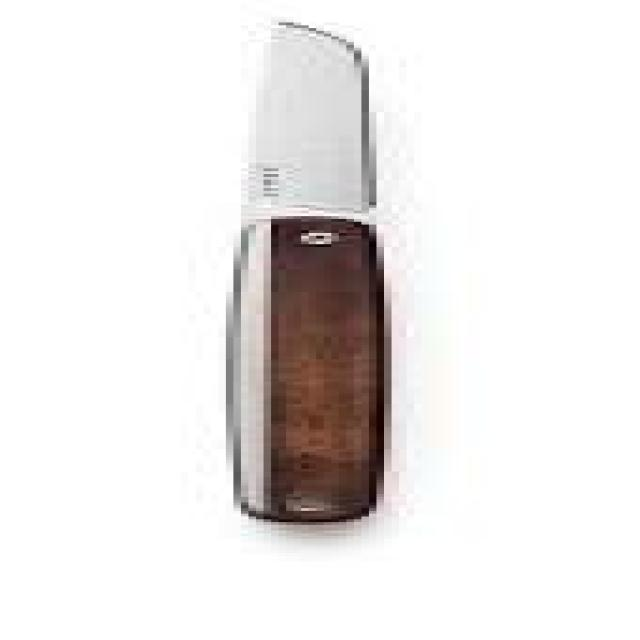knives: (211, 14, 391, 525)
